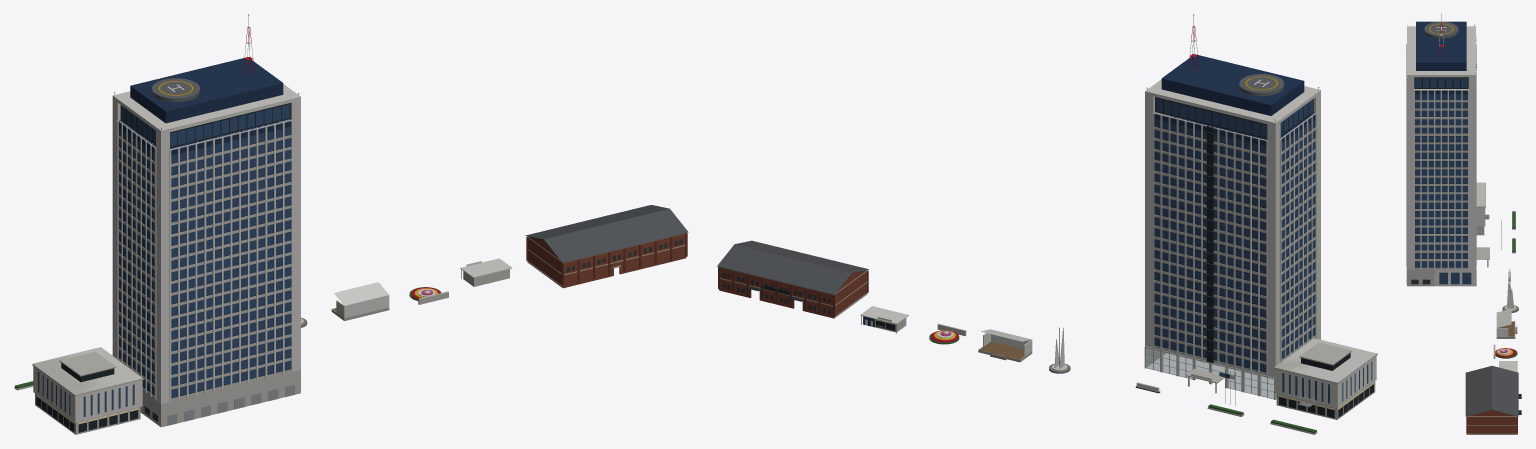
The model's file is umibe.glb.
3 renders of one model, left to right at view 1: azimuth 30°, elevation 25°; view 2: azimuth 150°, elevation 25°; view 3: azimuth 270°, elevation 25°, orthographic. The views are drawn at different scales.
Parts seen in each view (by area): view 1: umibe_shiyakusho_body, umibe_renga_body, umibe_bandshell_body, umibe_kyukeijo_body; view 2: umibe_shiyakusho_body, umibe_renga_body, umibe_bandshell_body, umibe_kyukeijo_body; view 3: umibe_shiyakusho_body, umibe_renga_body, umibe_bandshell_body, umibe_kadan_body, umibe_monument_body, umibe_kyukeijo_body.
Boxes of the visible parts, left/top/right/bottom form: umibe_shiyakusho_body: left=14, top=14, right=300, bottom=434; umibe_renga_body: left=525, top=205, right=688, bottom=288; umibe_bandshell_body: left=331, top=282, right=389, bottom=320; umibe_kyukeijo_body: left=460, top=258, right=512, bottom=286; umibe_shiyakusho_body: left=1135, top=14, right=1377, bottom=434; umibe_renga_body: left=717, top=240, right=868, bottom=318; umibe_bandshell_body: left=978, top=329, right=1032, bottom=362; umibe_kyukeijo_body: left=860, top=306, right=908, bottom=333; umibe_shiyakusho_body: left=1406, top=14, right=1515, bottom=286; umibe_renga_body: left=1465, top=365, right=1521, bottom=434; umibe_bandshell_body: left=1496, top=309, right=1517, bottom=338; umibe_kadan_body: left=1493, top=344, right=1517, bottom=358; umibe_monument_body: left=1502, top=278, right=1518, bottom=312; umibe_kyukeijo_body: left=1499, top=361, right=1517, bottom=372.
Bounding box in the file's own units: 229 × 126 × 50.05.
